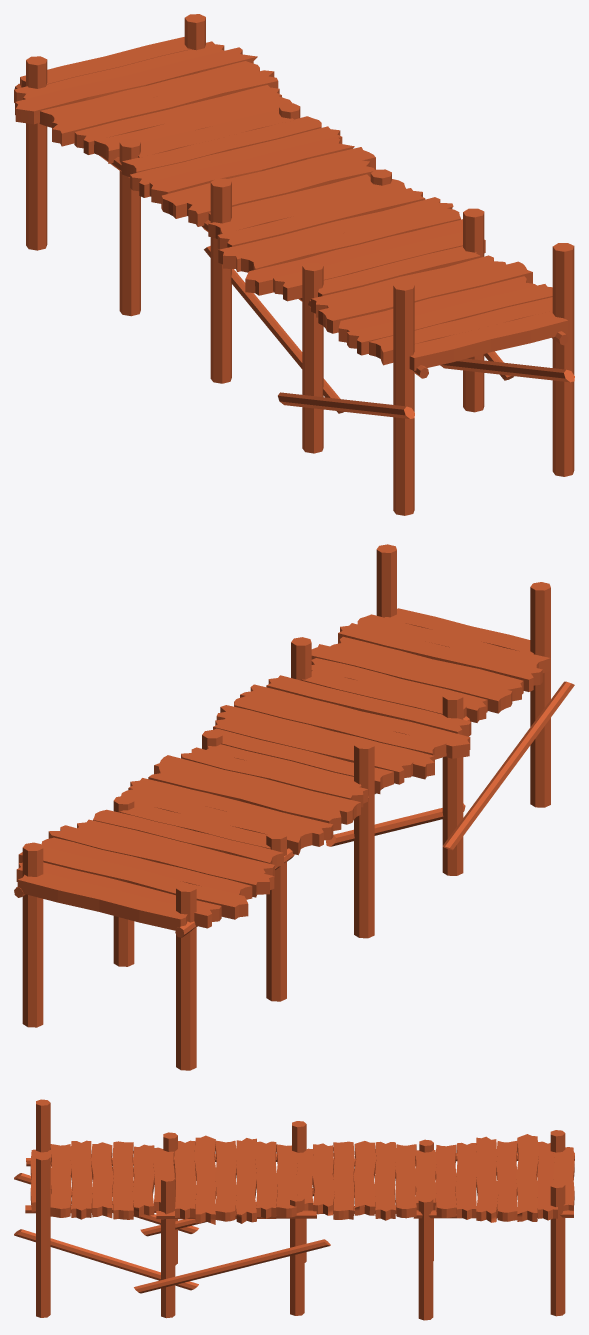
File: ponton.fbx
The picture shows the model from 3 angles, top to bottom: view 1: azimuth 30°, elevation 25°; view 2: azimuth 150°, elevation 25°; view 3: azimuth 270°, elevation 25°; orthographic projection. The views are drawn at different scales.
Visible parts, largest first — view 1: Cylinder.001, Cylinder, Cube, Cube.024, Cube.022, Cylinder.003, Cylinder.002, Cube.016, Cylinder.005, Cylinder.004, Cube.018, Cube.004 (+26 smaller); view 2: Cube.026, Cylinder.001, Cylinder.003, Cylinder.006, Cylinder.005, Cube.022, Cube.002, Cube.024, Cube.004, Cube.015, Cube.016, Cube.014 (+26 smaller); view 3: Cylinder, Cylinder.006, Cylinder.007, Cylinder.009, Cube.024, Cube.015, Cube.022, Cylinder.013, Cube.017, Cube.016, Cube.004, Cube.009 (+29 smaller).
Part boxes in pixels (x1,y1,x2,y2): Cylinder.001: [393, 281, 414, 515]; Cylinder: [552, 243, 574, 476]; Cube: [409, 311, 568, 370]; Cube.024: [15, 47, 257, 124]; Cube.022: [52, 70, 278, 146]; Cylinder.003: [210, 178, 231, 383]; Cylinder.002: [302, 262, 323, 453]; Cube.016: [241, 208, 460, 272]; Cylinder.005: [26, 56, 47, 250]; Cylinder.004: [119, 139, 140, 316]; Cube.018: [217, 188, 425, 249]; Cube.004: [318, 261, 532, 333]; Cube.026: [17, 872, 187, 930]; Cylinder.001: [530, 582, 550, 807]; Cylinder.003: [354, 740, 374, 938]; Cylinder.006: [22, 842, 43, 1027]; Cylinder.005: [176, 883, 196, 1070]; Cube.022: [48, 825, 274, 897]; Cube.002: [338, 623, 542, 691]; Cube.024: [18, 847, 248, 919]; Cube.004: [311, 644, 512, 713]; Cube.015: [240, 684, 470, 758]; Cube.016: [234, 695, 446, 759]; Cube.014: [266, 675, 471, 736]; Cylinder: [36, 1154, 50, 1317]; Cylinder.006: [550, 1182, 565, 1316]; Cylinder.007: [418, 1196, 433, 1320]; Cylinder.009: [161, 1175, 175, 1318]; Cube.024: [516, 1134, 538, 1221]; Cube.015: [194, 1135, 215, 1224]; Cube.022: [476, 1136, 498, 1222]; Cylinder.013: [134, 1239, 330, 1293]; Cube.017: [236, 1138, 256, 1223]; Cube.016: [215, 1140, 236, 1221]; Cube.004: [112, 1141, 133, 1219]; Cube.009: [333, 1141, 354, 1219].
Size of the model in its own units: 445 by 414 by 1310.
